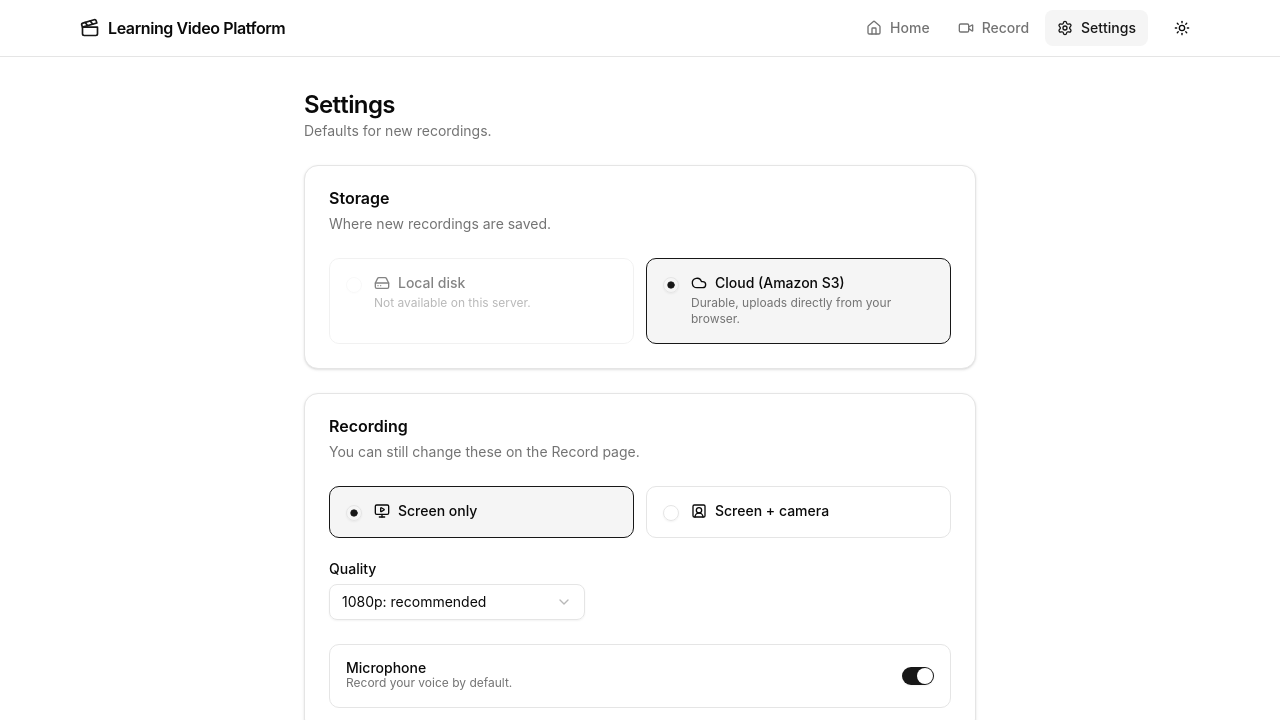
Test case: SettingsPage › loads settings, disables unavailable storage and saves changes
Expected: the text "Not available on this server." is shown, [374,295,531,311]
Click the switch named "microphone" at (918, 676), box [902,667,934,685]
(page scrolled)
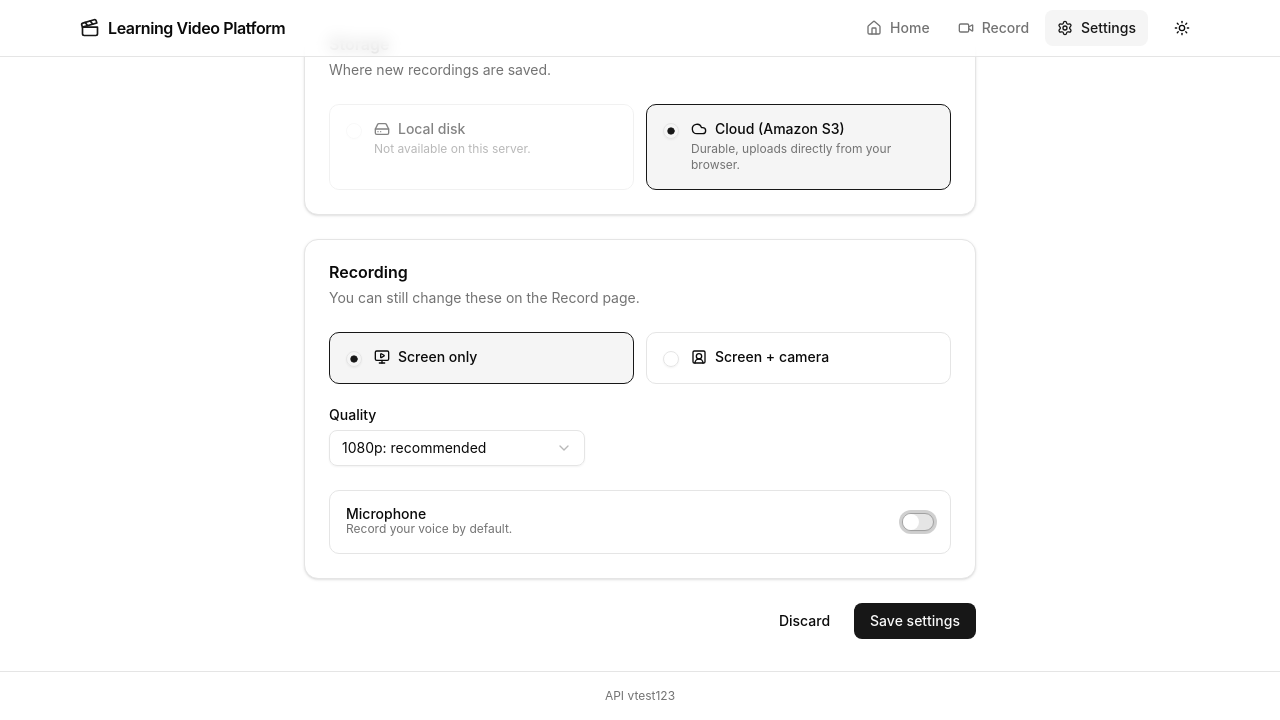
Click the button "Save settings" at (915, 621), box [854,603,976,639]
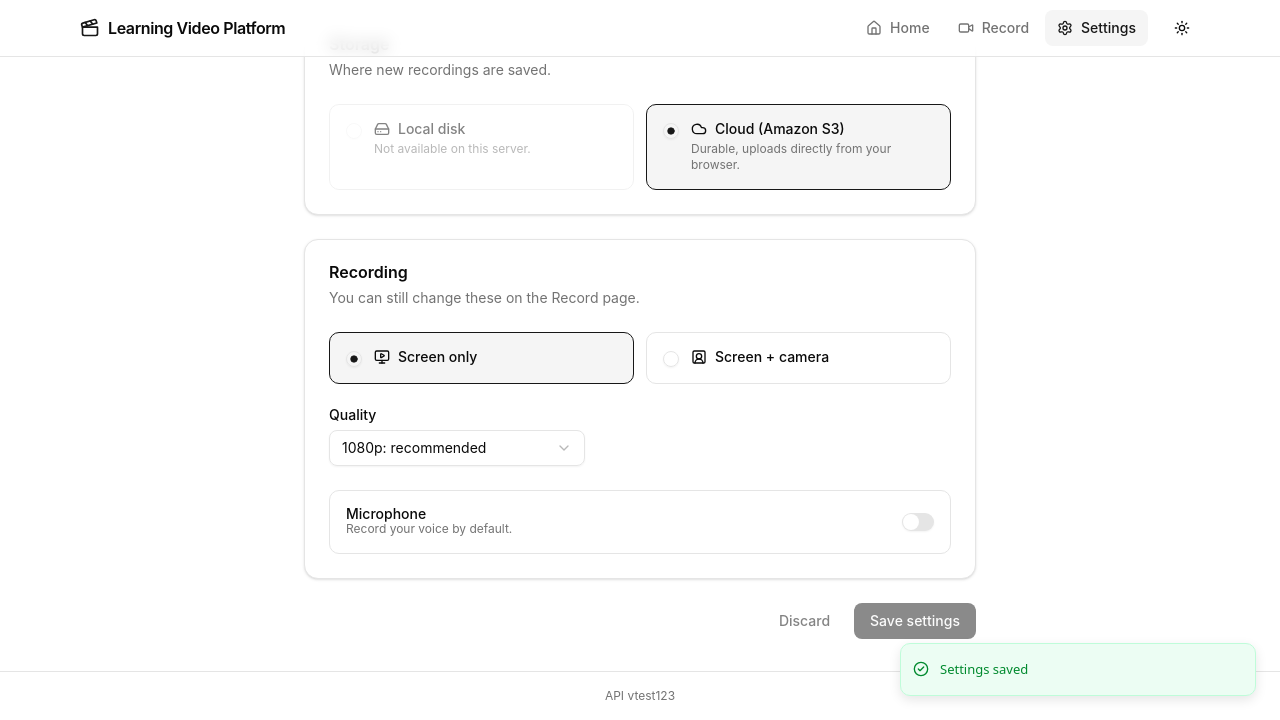
Result: the text "Settings saved" is shown at [940,660,1028,679]
